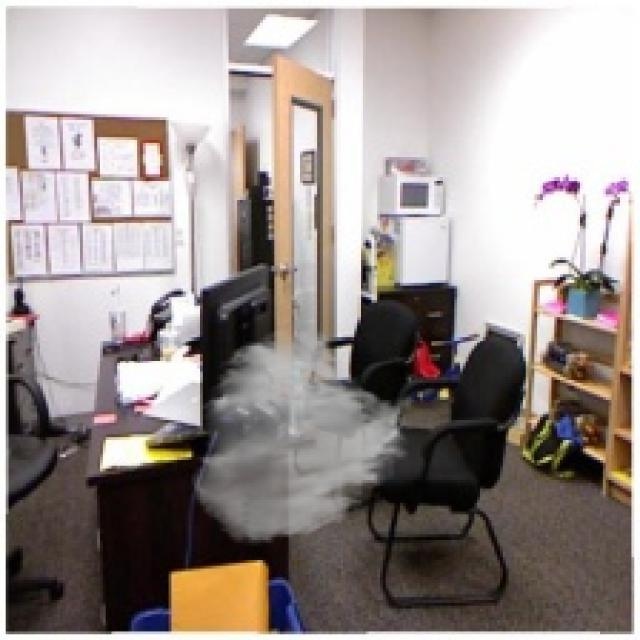smoke: (189, 326, 417, 546)
